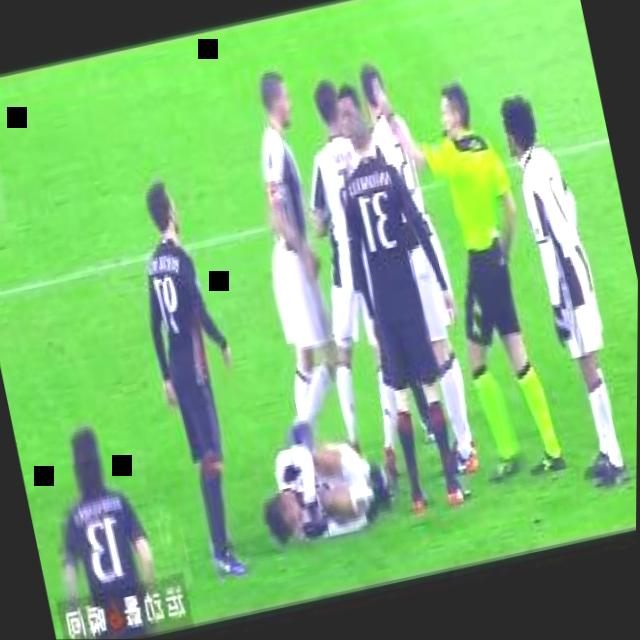Fall-Detected: (247, 387, 413, 558)
